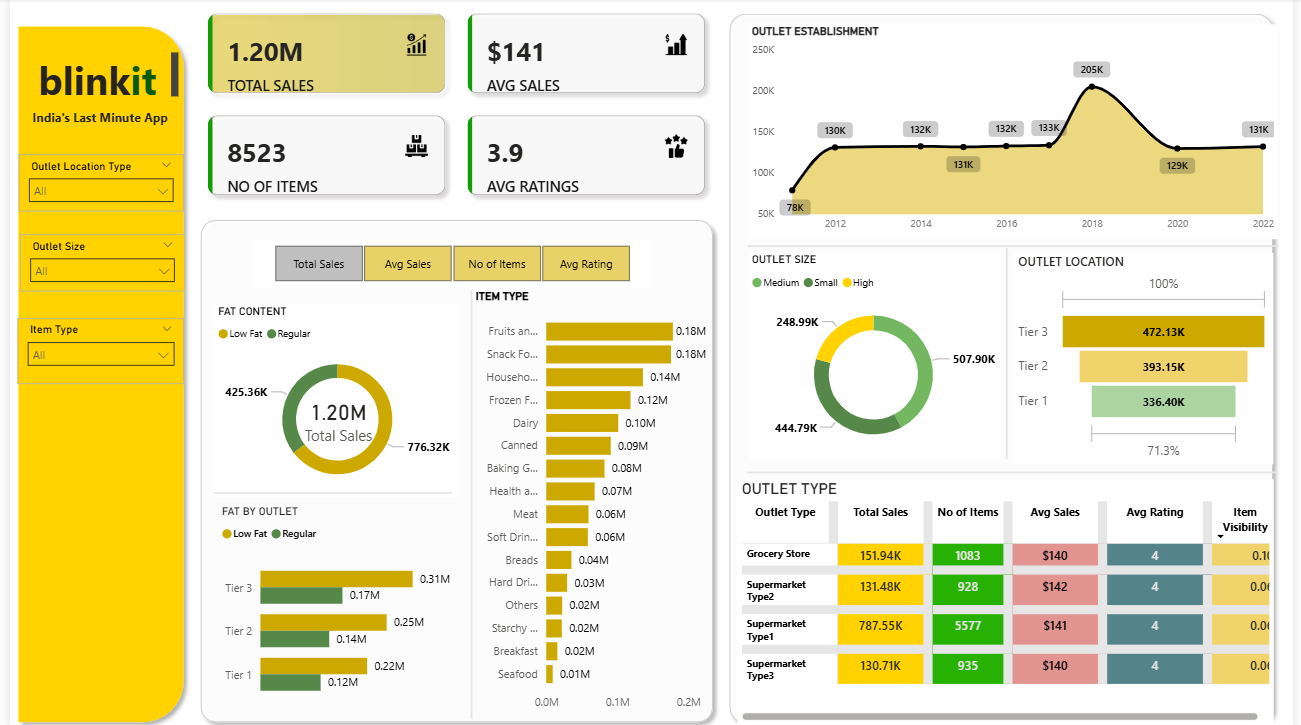

This screenshot's page, from the dashboard's own definition file:
{"tool":"powerbi","page":{"name":"Page 1","canvas":[1400,800],"ordinal":0},"visuals":[{"type":"shape","box":[0,21.4,198.6,777.1],"z":0},{"type":"textbox","box":[8.7,116.3,180.6,38.3],"z":2000},{"type":"cardVisual","fields":{"Data":["BlinkIT Grocery Data.Total Sales","BlinkIT Grocery Data.Avg Sales","BlinkIT Grocery Data.No of Items","BlinkIT Grocery Data.AVg Rating"]},"box":[199,0,576.7,233.1],"z":3000},{"type":"shape","box":[199,233.1,576.7,565.8],"z":4000},{"type":"donutChart","title":"FAT CONTENT ","fields":{"Y":["BlinkIT Grocery Data.Total Sales"],"Category":["BlinkIT Grocery Data.Item Fat Content"]},"box":[222.9,334.3,270,210],"z":5000},{"type":"slicer","fields":{"Values":["Metrics.Metrics"]},"box":[262.9,262.9,437.1,52.9],"z":6000},{"type":"cardVisual","fields":{"Data":["BlinkIT Grocery Data.Total Sales"]},"box":[297.1,420,122.9,85.7],"z":7000},{"type":"clusteredBarChart","title":"FAT BY OUTLET","fields":{"Y":["BlinkIT Grocery Data.Total Sales"],"Category":["BlinkIT Grocery Data.Outlet Location Type"],"Series":["BlinkIT Grocery Data.Item Fat Content"]},"box":[226.3,552.2,260.4,229],"z":8000},{"type":"shape","box":[222.9,524.3,260,30],"z":9000},{"type":"shape","box":[482.9,318.6,41.4,467.1],"z":10000},{"type":"barChart","title":"ITEM TYPE","fields":{"Y":["BlinkIT Grocery Data.Total Sales"],"Category":["BlinkIT Grocery Data.Item Type"]},"box":[503.1,317.7,275.4,469],"z":11000},{"type":"shape","box":[775.7,8.2,610.8,792.1],"z":12000},{"type":"lineChart","title":"OUTLET ESTABLISHMENT","fields":{"Y":["BlinkIT Grocery Data.Total Sales"],"Category":["BlinkIT Grocery Data.Outlet Establishment Year"]},"box":[804.4,28.6,579.4,234.5],"z":13000},{"type":"shape","box":[804.4,263.1,579.4,15],"z":14000},{"type":"donutChart","title":"OUTLET SIZE","fields":{"Y":["BlinkIT Grocery Data.Total Sales"],"Category":["BlinkIT Grocery Data.Outlet Size"]},"box":[804.4,278.1,275,225],"z":15000},{"type":"shape","box":[1081.1,272.7,12,230.4],"z":16000},{"type":"funnel","title":"OUTLET LOCATION","fields":{"Y":["Sum(BlinkIT Grocery Data.Sales)"],"Category":["BlinkIT Grocery Data.Outlet Location Type"]},"box":[1094.8,278.1,283.6,230.4],"z":17000},{"type":"shape","box":[804.4,509.9,579.4,15],"z":18000},{"type":"pivotTable","title":"OUTLET TYPE","fields":{"Rows":["BlinkIT Grocery Data.Outlet Type"],"Values":["BlinkIT Grocery Data.Total Sales","BlinkIT Grocery Data.No of Items","BlinkIT Grocery Data.Avg Sales","BlinkIT Grocery Data.Avg Rating","Avg(BlinkIT Grocery Data.Item Visibility)"]},"box":[792.8,524.4,585,268.4],"z":19000},{"type":"slicer","fields":{"Values":["BlinkIT Grocery Data.Outlet Location Type"]},"box":[9.5,170.4,180,62.7],"z":20000},{"type":"slicer","fields":{"Values":["BlinkIT Grocery Data.Outlet Size"]},"box":[10.9,257.7,180,62.7],"z":21000},{"type":"slicer","fields":{"Values":["BlinkIT Grocery Data.Item Type"]},"box":[8.7,348.8,181.8,71.7],"z":22000},{"type":"textbox","box":[11.1,54.4,178.1,61.8],"z":22001}]}

Visuals, with their boxes in screenshot pixels (x1, y1, x2, y2), scaled from the page's 1400x800 canvas onto the 1301x725 screenshot:
shape: 0, 19, 185, 724
textbox: 8, 105, 176, 140
cardVisual - BlinkIT Grocery Data.Total Sales x BlinkIT Grocery Data.Avg Sales: 185, 0, 721, 211
shape: 185, 211, 721, 724
"FAT CONTENT " donutChart: 207, 303, 458, 493
slicer - Metrics.Metrics: 244, 238, 650, 286
cardVisual - BlinkIT Grocery Data.Total Sales: 276, 381, 390, 458
"FAT BY OUTLET" clusteredBarChart: 210, 500, 452, 708
shape: 207, 475, 449, 502
shape: 449, 289, 487, 712
"ITEM TYPE" barChart: 468, 288, 723, 713
shape: 721, 7, 1288, 724
"OUTLET ESTABLISHMENT" lineChart: 748, 26, 1286, 238
shape: 748, 238, 1286, 252
"OUTLET SIZE" donutChart: 748, 252, 1003, 456
shape: 1005, 247, 1016, 456
"OUTLET LOCATION" funnel: 1017, 252, 1281, 461
shape: 748, 462, 1286, 476
"OUTLET TYPE" pivotTable: 737, 475, 1280, 718
slicer - BlinkIT Grocery Data.Outlet Location Type: 9, 154, 176, 211
slicer - BlinkIT Grocery Data.Outlet Size: 10, 234, 177, 290
slicer - BlinkIT Grocery Data.Item Type: 8, 316, 177, 381
textbox: 10, 49, 176, 105
